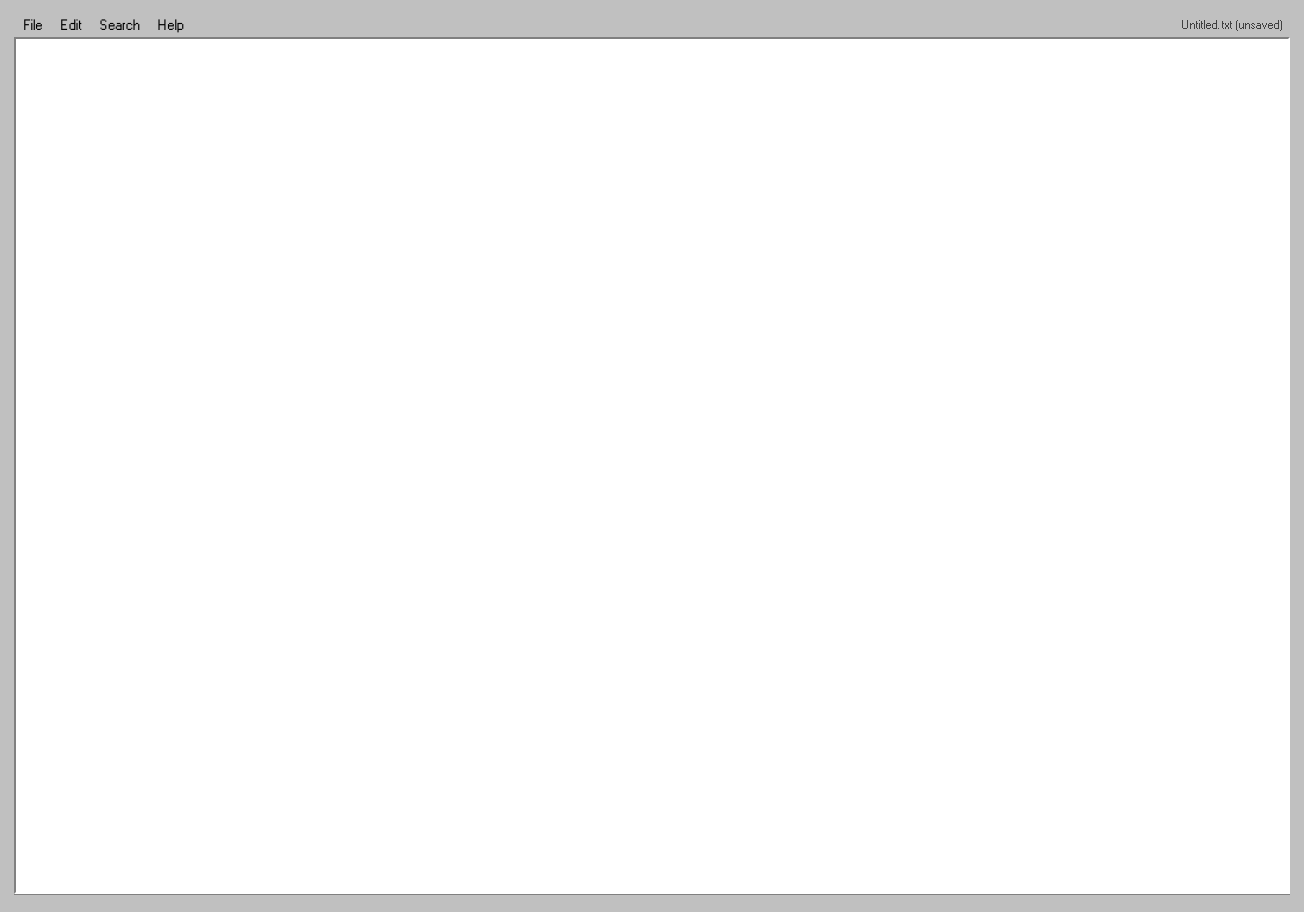
Scenario: Notepad menus › Paste inserts clipboard text, and explains when the browser blocks it
This screenshot has width=1304, height=912.
Type "ab" into the text box with class "notepad-textarea" at (652, 466), box [14, 37, 1290, 894]
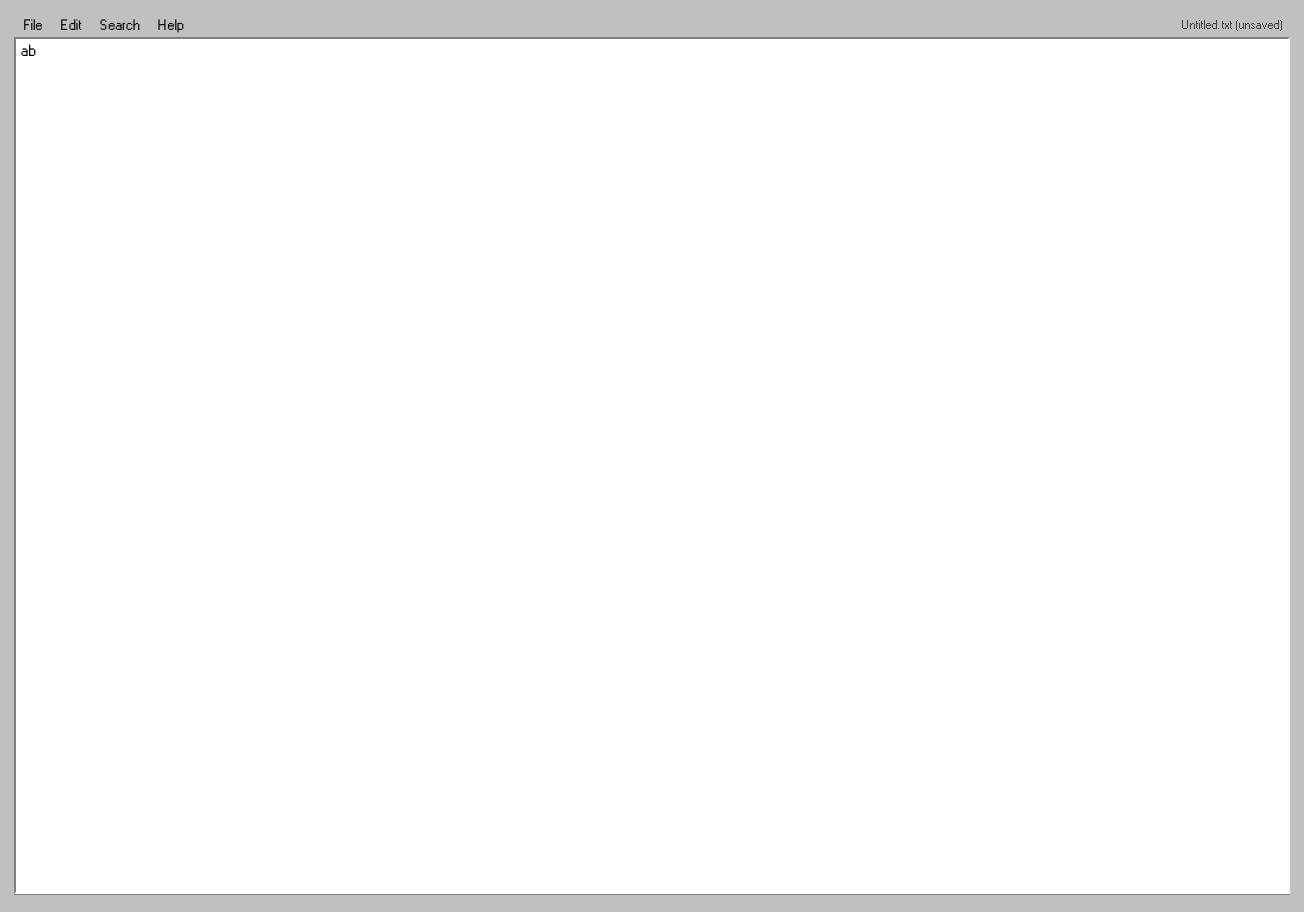
Click the menu item "Edit" at (71, 25), box [51, 15, 90, 35]
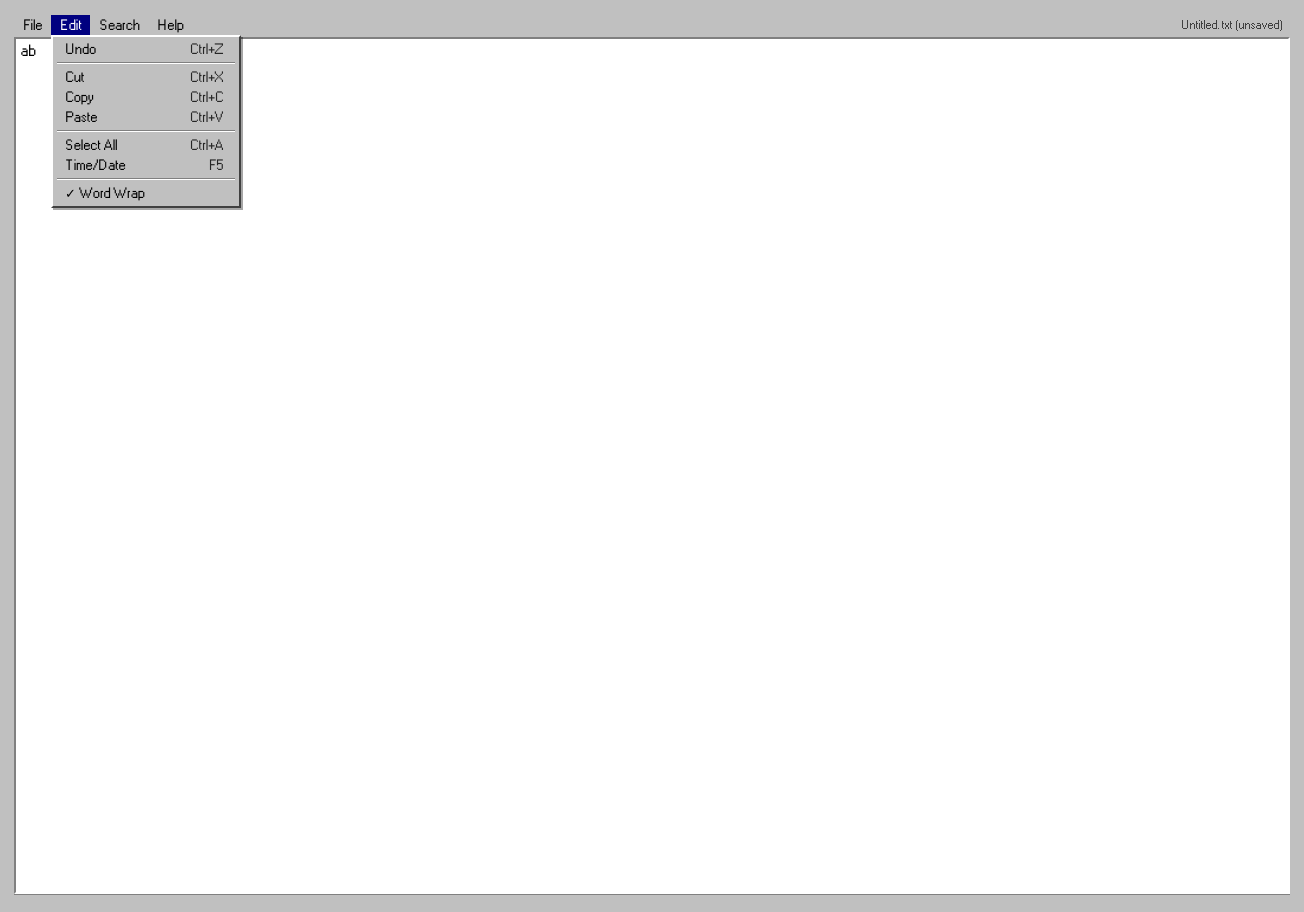
Click the menu item "Paste Ctrl+V" at (146, 117), box [55, 107, 237, 127]
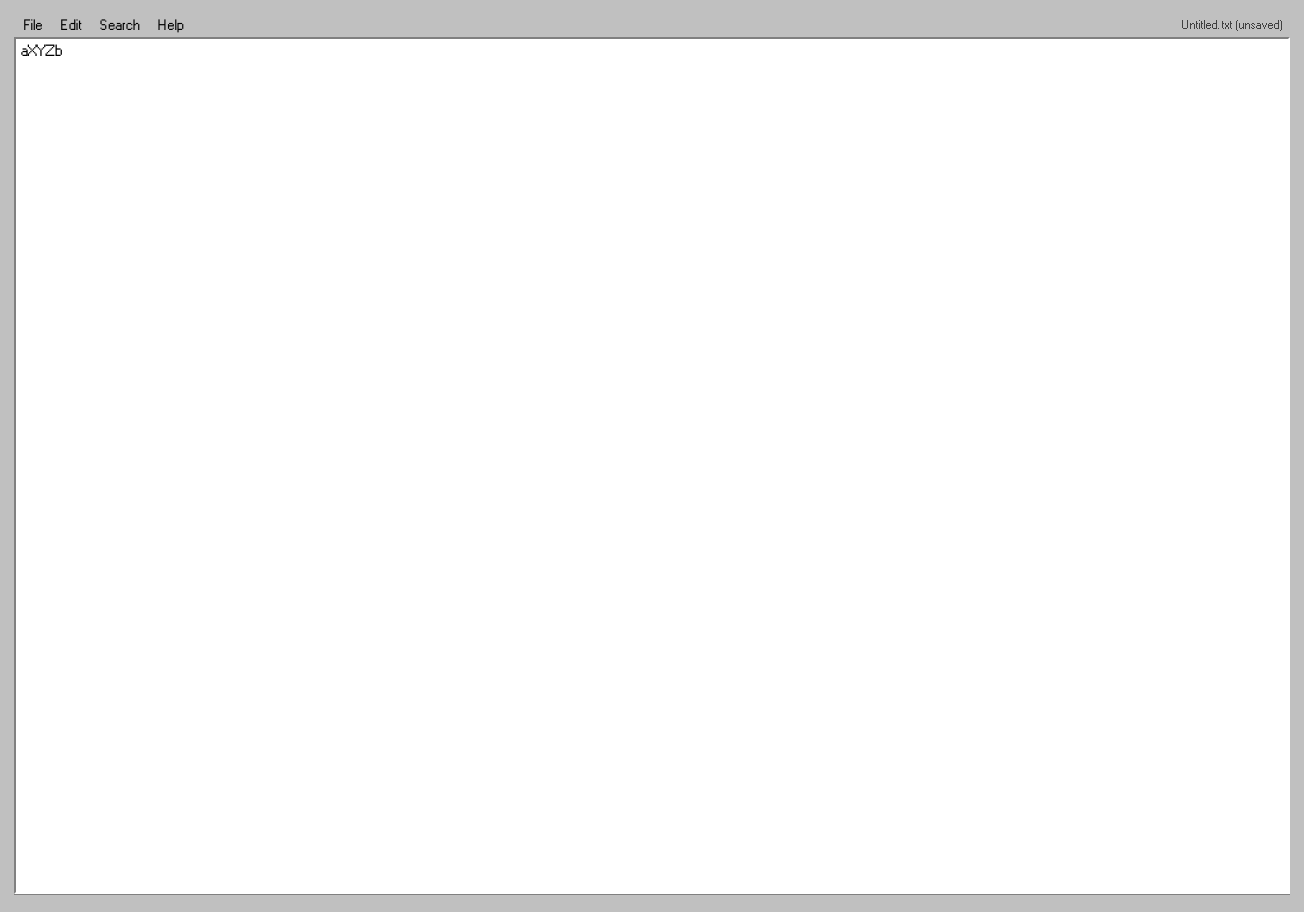
expect the text box with class "notepad-textarea" holds "aXYZb": met
Click the menu item "Edit" at (71, 25), box [51, 15, 90, 35]
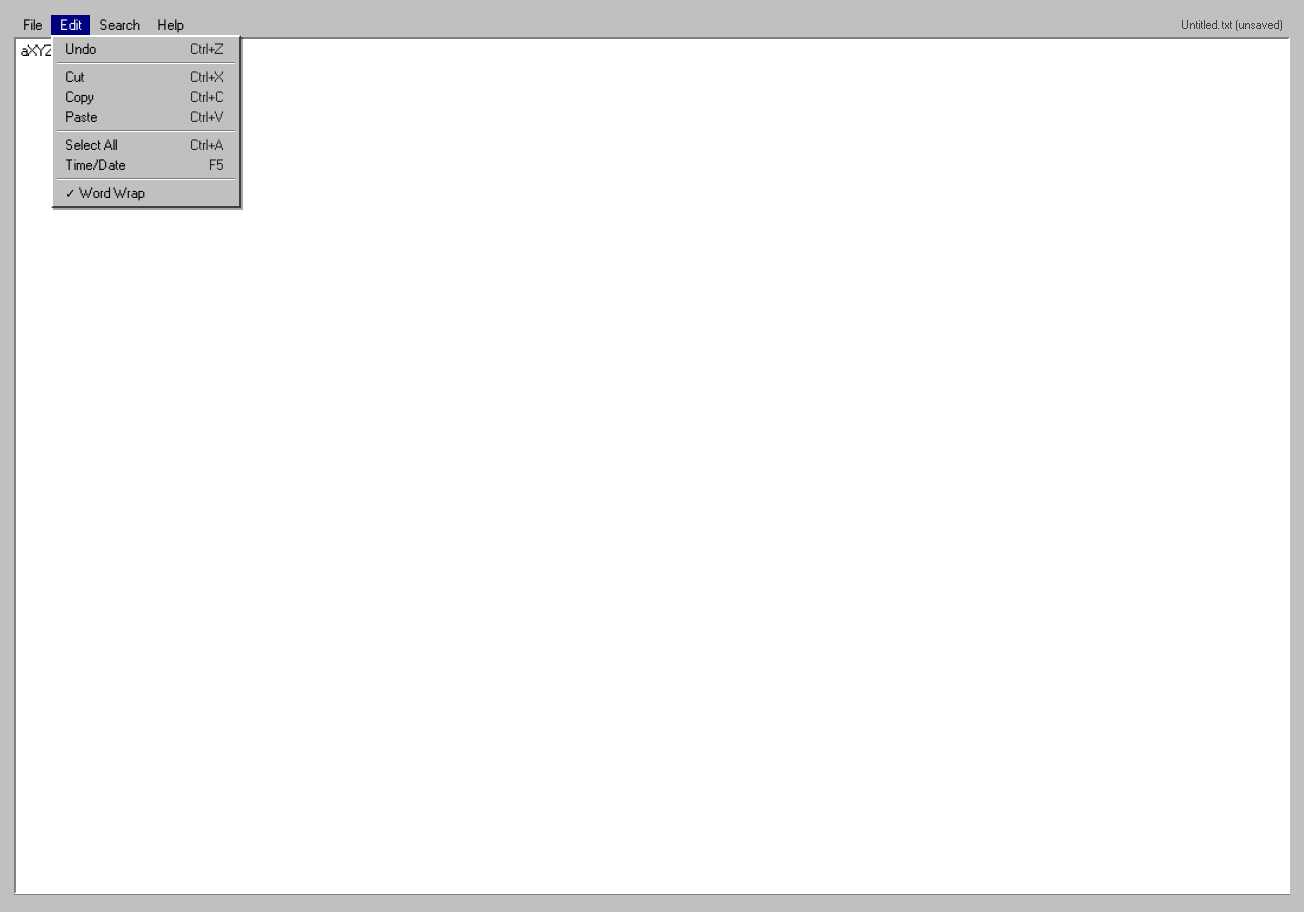
Click the menu item "Paste Ctrl+V" at (146, 117), box [55, 107, 237, 127]
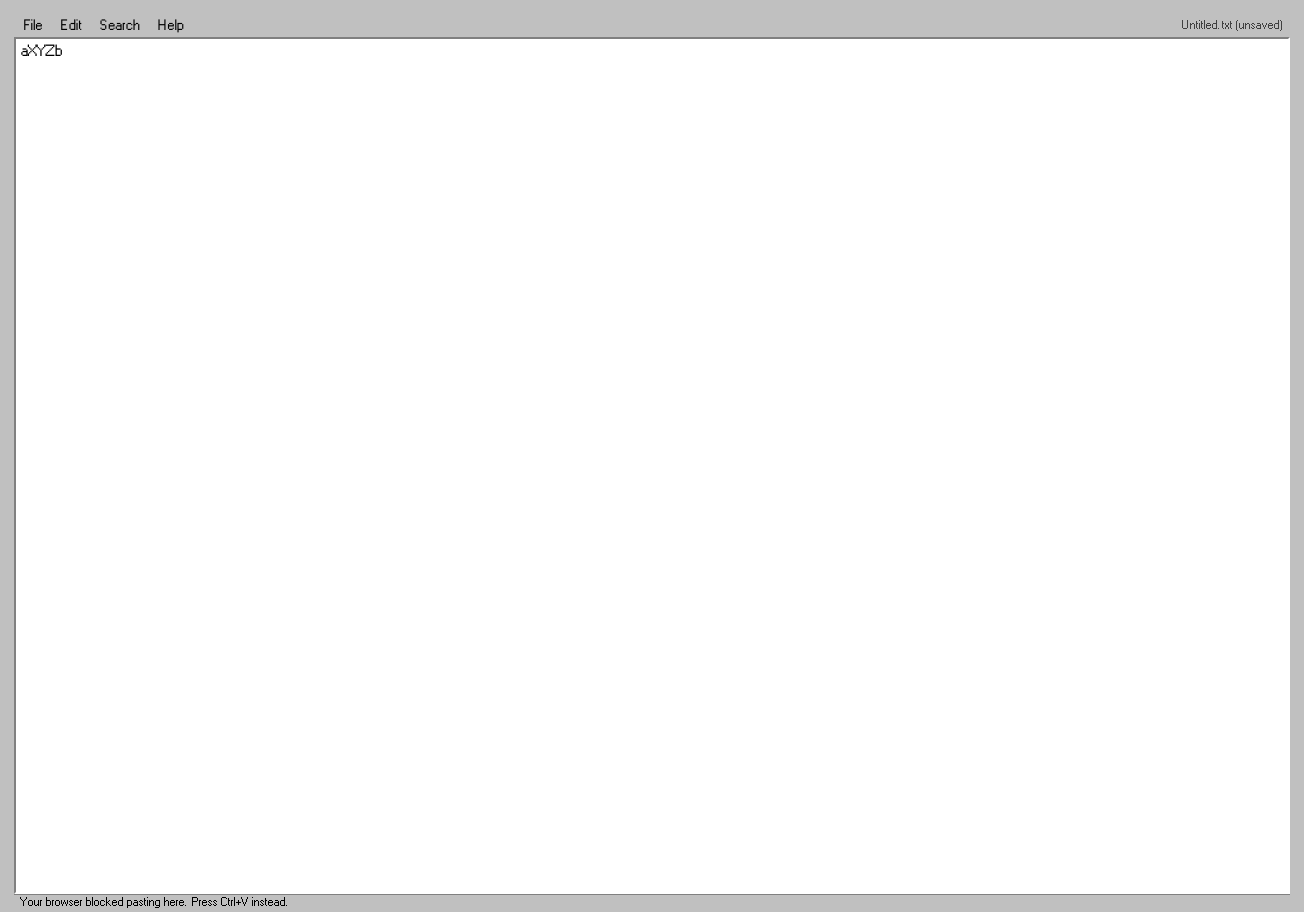
expect the text "Your browser blocked pasting here. Press Ctrl+V instead." is shown: met, box [14, 894, 1290, 910]
